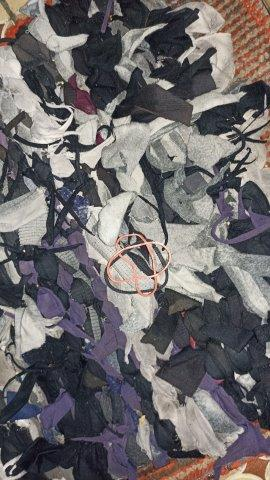karet: (105, 233, 172, 297)
